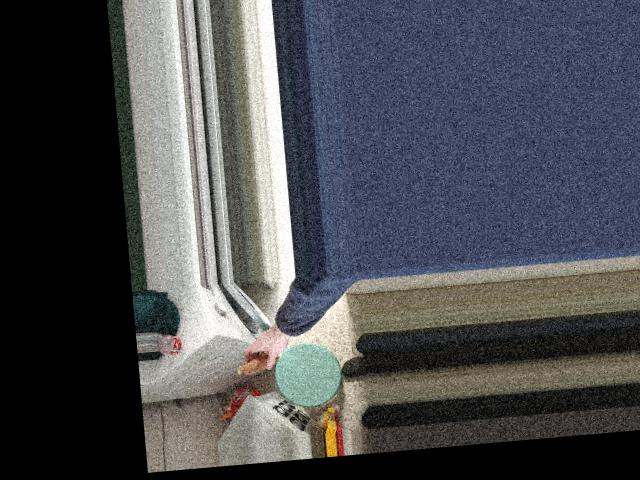sweet_potato: (236, 341, 290, 375)
